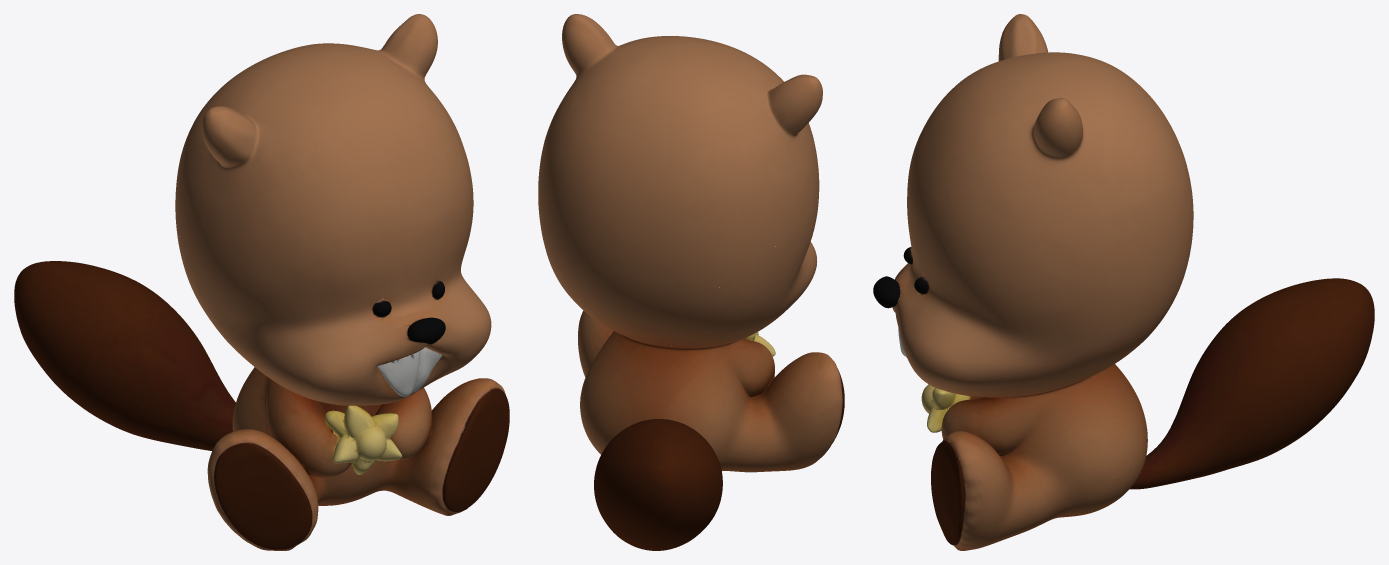
Rendered from aqu.glb.
The picture shows the model from 3 angles, left to right: view 1: azimuth 30°, elevation 25°; view 2: azimuth 150°, elevation 25°; view 3: azimuth 270°, elevation 25°; orthographic projection. The views are drawn at different scales.
Visible parts, largest first — view 1: tripo_node_072014eb-c44d-40cc-894c-ffc5d9d1d4dc; view 2: tripo_node_072014eb-c44d-40cc-894c-ffc5d9d1d4dc; view 3: tripo_node_072014eb-c44d-40cc-894c-ffc5d9d1d4dc.
Boxes of the visible parts, left/top/right/bottom form: tripo_node_072014eb-c44d-40cc-894c-ffc5d9d1d4dc: left=14, top=14, right=509, bottom=550; tripo_node_072014eb-c44d-40cc-894c-ffc5d9d1d4dc: left=538, top=14, right=844, bottom=550; tripo_node_072014eb-c44d-40cc-894c-ffc5d9d1d4dc: left=873, top=14, right=1374, bottom=550.
Size of the model in its own units: 0.6833 by 0.9794 by 0.9782.
1 material, 1 textured.
